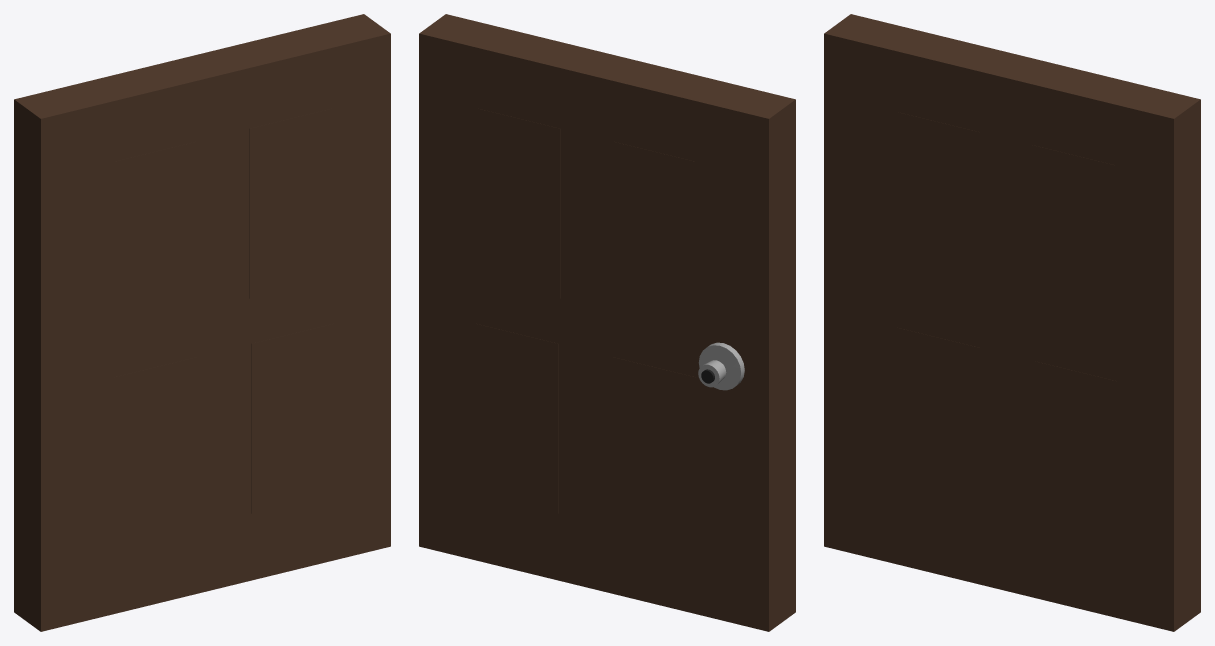
Rendered from door.fbx.
3 views of the same model, side by side, from view 1: azimuth 30°, elevation 25°; view 2: azimuth 150°, elevation 25°; view 3: azimuth 330°, elevation 25° (orthographic).
Visible parts, largest first — view 1: pCube1002; view 2: pCube1002; view 3: pCube1002.
Boxes of the visible parts, left/top/right/bottom form: pCube1002: left=14, top=14, right=390, bottom=631; pCube1002: left=419, top=14, right=795, bottom=631; pCube1002: left=824, top=14, right=1200, bottom=631.
Size of the model in its own units: 33550 by 46999 by 7156.
